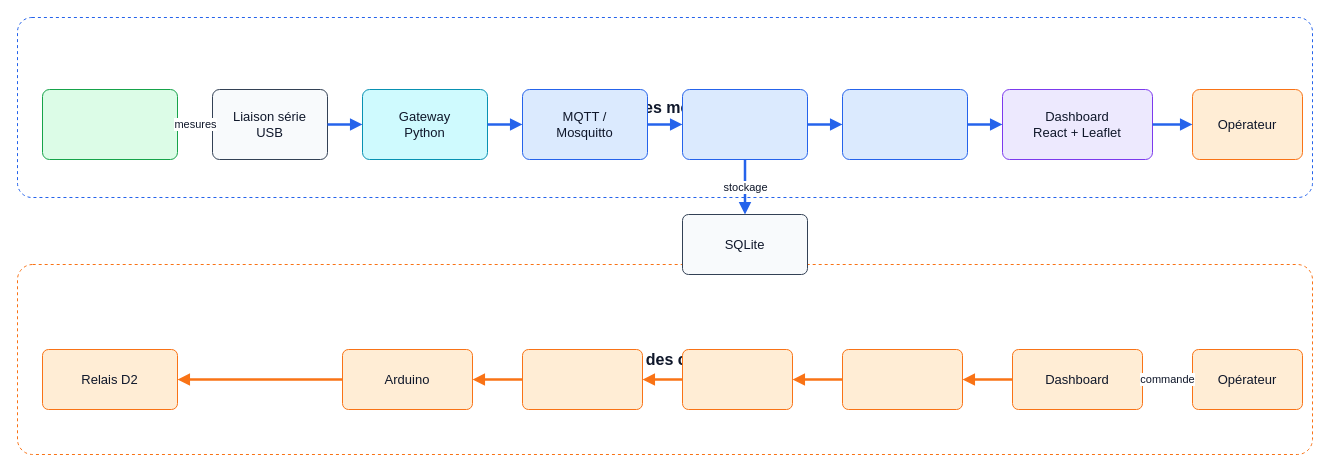
Some shapes in this 1330 by 472 pixel diagram are drawn without their labels. The centre of each missing label's shape, as x and y in pixels:
"Arduino UNO NODE_LUB_001" belongs at pixel 110 124.
"Backend" belongs at pixel 902 379.
"Backend FastAPI" belongs at pixel 745 124.
"Gateway" belongs at pixel 582 379.
"MQTT" belongs at pixel 737 379.
"WebSocket" belongs at pixel 905 124.
